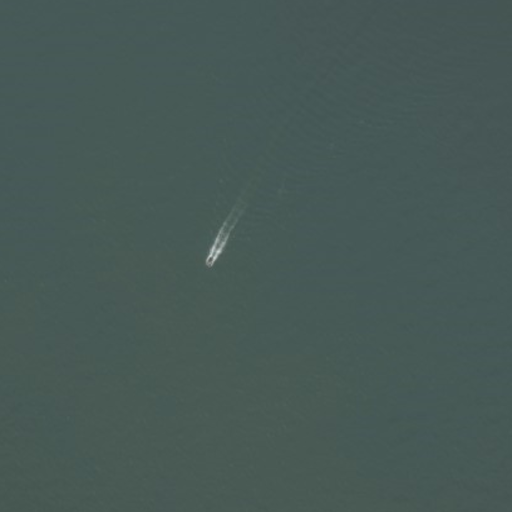ship: (203, 251, 220, 270)
